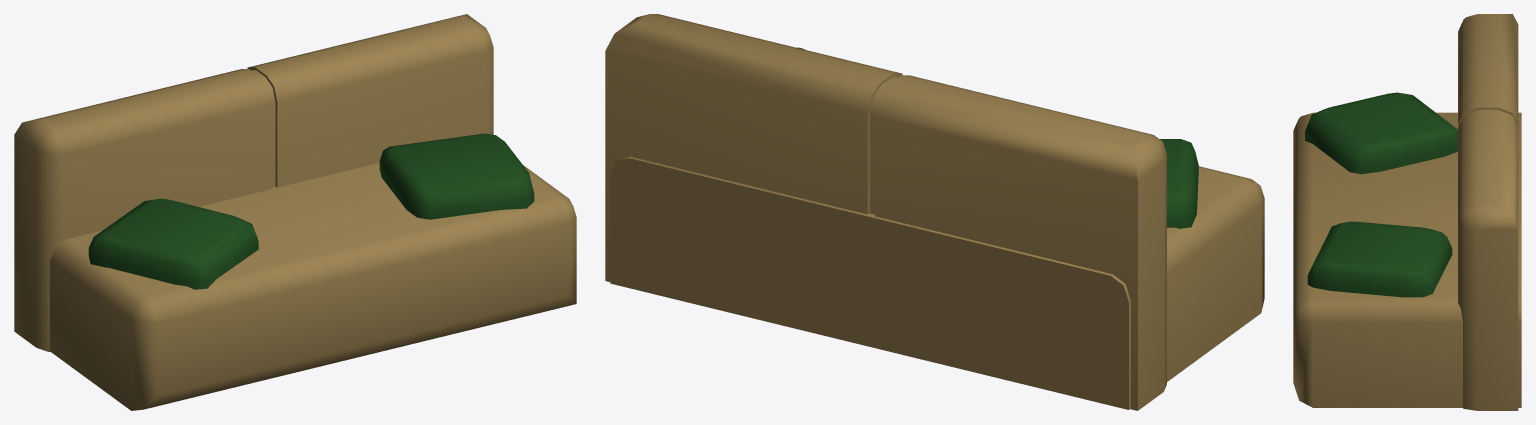
The model's file is sofa-low-poly.glb.
The picture shows the model from 3 angles, left to right: view 1: azimuth 30°, elevation 25°; view 2: azimuth 150°, elevation 25°; view 3: azimuth 270°, elevation 25°; orthographic projection. The views are drawn at different scales.
Visible parts, largest first — view 1: Environment_Sofa, Environment_Sofa.009, Environment_Sofa.010, Environment_Sofa.003, Environment_Sofa.018, Environment_Sofa.004, Environment_Sofa.024, Environment_Sofa.002, Environment_Sofa.006, Environment_Sofa.011, Environment_Sofa.022; view 2: Environment_Sofa.005, Environment_Sofa.008, Environment_Sofa.013, Environment_Sofa.004, Environment_Sofa.006, Environment_Sofa.011, Environment_Sofa.002, Environment_Sofa.003, Environment_Sofa.018, Environment_Sofa.023; view 3: Environment_Sofa.001, Environment_Sofa.003, Environment_Sofa.007, Environment_Sofa.024, Environment_Sofa.018, Environment_Sofa.011, Environment_Sofa.006, Environment_Sofa, Environment_Sofa.010, Environment_Sofa.013, Environment_Sofa.008, Environment_Sofa.009.
Part boxes in pixels (x1,y1,x2,y2): Environment_Sofa: (143,206,576,409); Environment_Sofa.009: (48,88,270,351); Environment_Sofa.010: (274,35,493,187); Environment_Sofa.003: (56,163,572,310); Environment_Sofa.018: (88,198,258,289); Environment_Sofa.004: (50,246,143,410); Environment_Sofa.024: (379,133,534,219); Environment_Sofa.002: (14,123,48,351); Environment_Sofa.006: (22,69,267,142); Environment_Sofa.011: (249,14,489,86); Environment_Sofa.022: (268,87,275,187); Environment_Sofa.005: (610,158,1128,409); Environment_Sofa.008: (875,98,1137,410); Environment_Sofa.013: (605,33,871,281); Environment_Sofa.004: (1123,186,1264,409); Environment_Sofa.006: (879,75,1162,160); Environment_Sofa.011: (615,14,901,96); Environment_Sofa.002: (1136,142,1166,410); Environment_Sofa.003: (616,156,1260,285); Environment_Sofa.018: (1160,139,1198,228); Environment_Sofa.023: (870,97,878,214); Environment_Sofa.001: (1299,308,1521,407); Environment_Sofa.003: (1299,112,1521,309); Environment_Sofa.007: (1463,214,1518,410); Environment_Sofa.024: (1307,221,1452,297); Environment_Sofa.018: (1305,92,1457,174); Environment_Sofa.011: (1463,110,1512,215); Environment_Sofa.006: (1463,14,1512,112); Environment_Sofa: (1293,119,1301,399); Environment_Sofa.010: (1458,116,1466,408); Environment_Sofa.013: (1512,116,1518,228); Environment_Sofa.008: (1512,14,1518,124); Environment_Sofa.009: (1458,20,1463,124).
Bounding box in the file's own units: 1.19 × 0.5376 × 0.5577.
